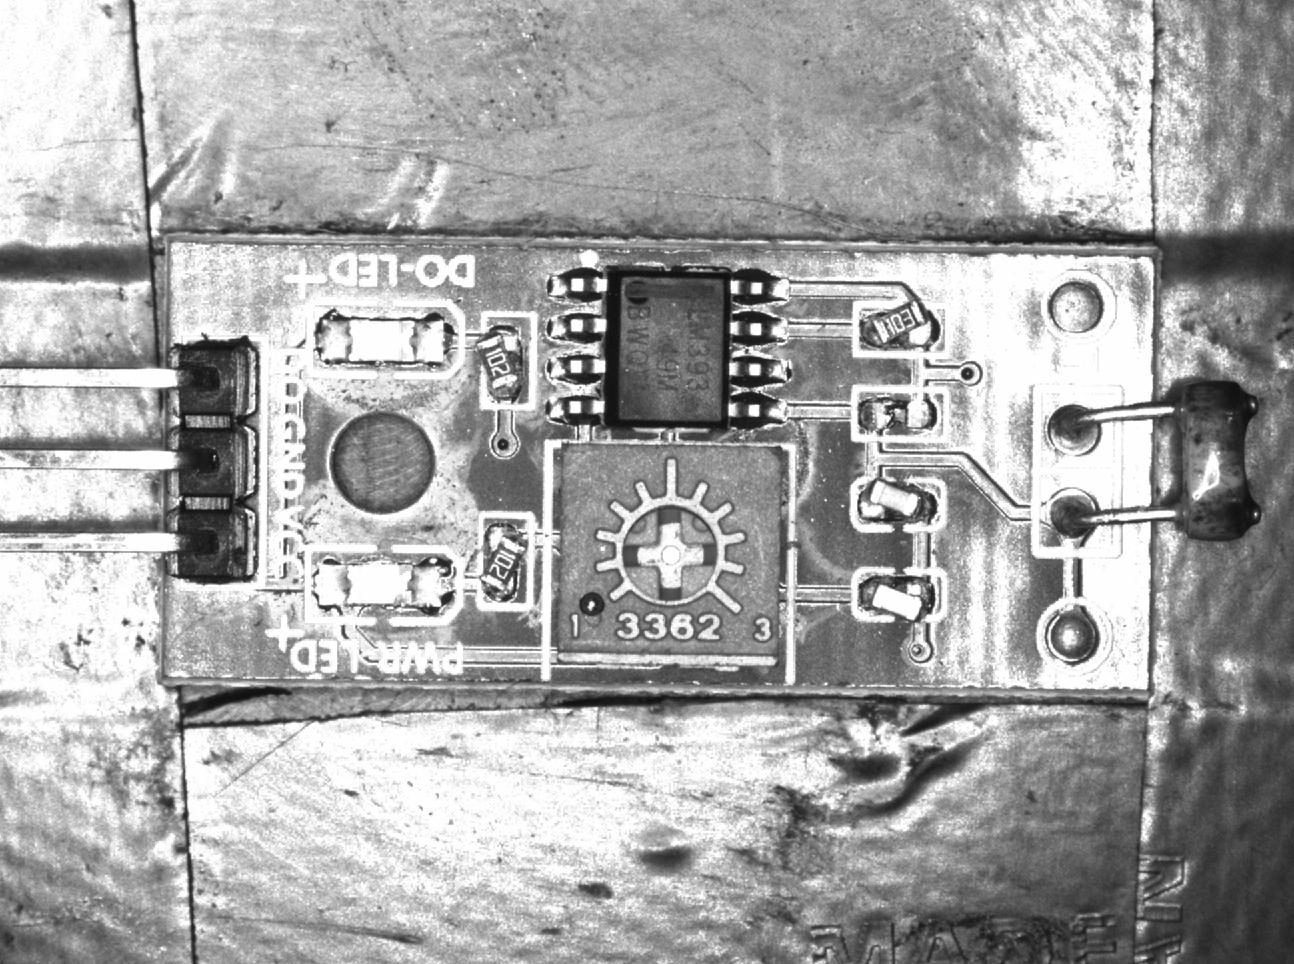lifted: (473, 313, 538, 408), (854, 300, 953, 358), (475, 514, 531, 613), (853, 480, 949, 533), (853, 568, 944, 623)
miss: (854, 386, 948, 443)
